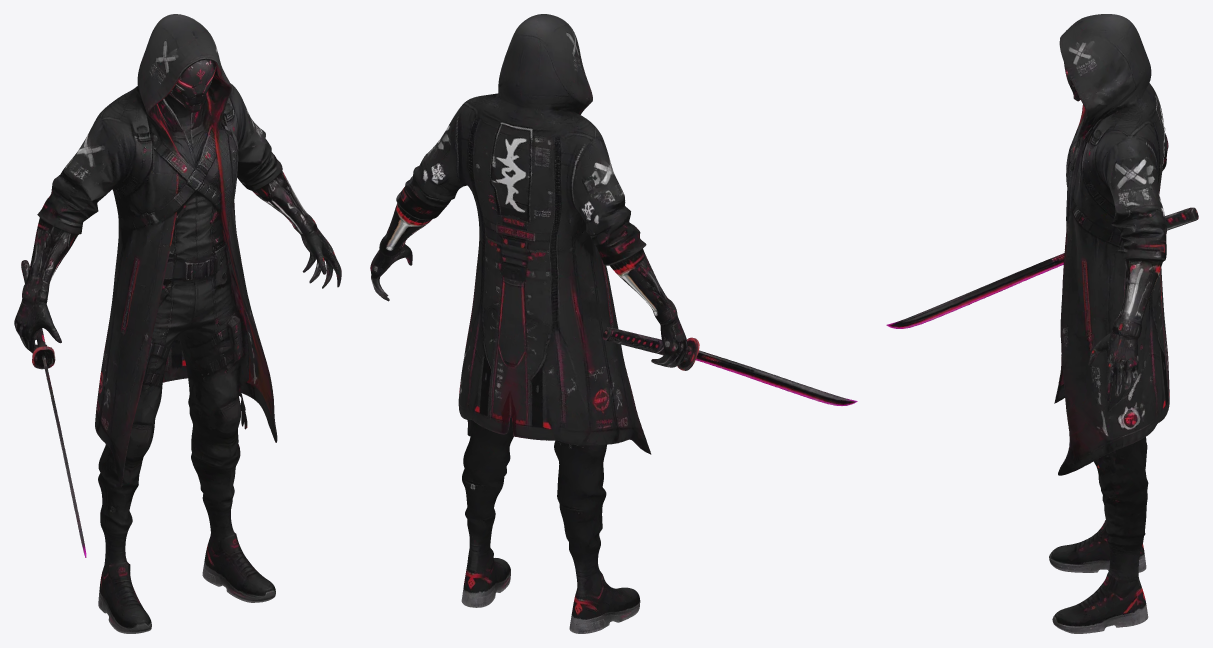
File: 赛博忍者.glb
The picture shows the model from 3 angles, left to right: view 1: azimuth 30°, elevation 25°; view 2: azimuth 150°, elevation 25°; view 3: azimuth 270°, elevation 25°; orthographic projection.
Bounding box in the file's own units: 1.25 × 1.9 × 0.9256.
Materials: 1 (1 with a texture image).
